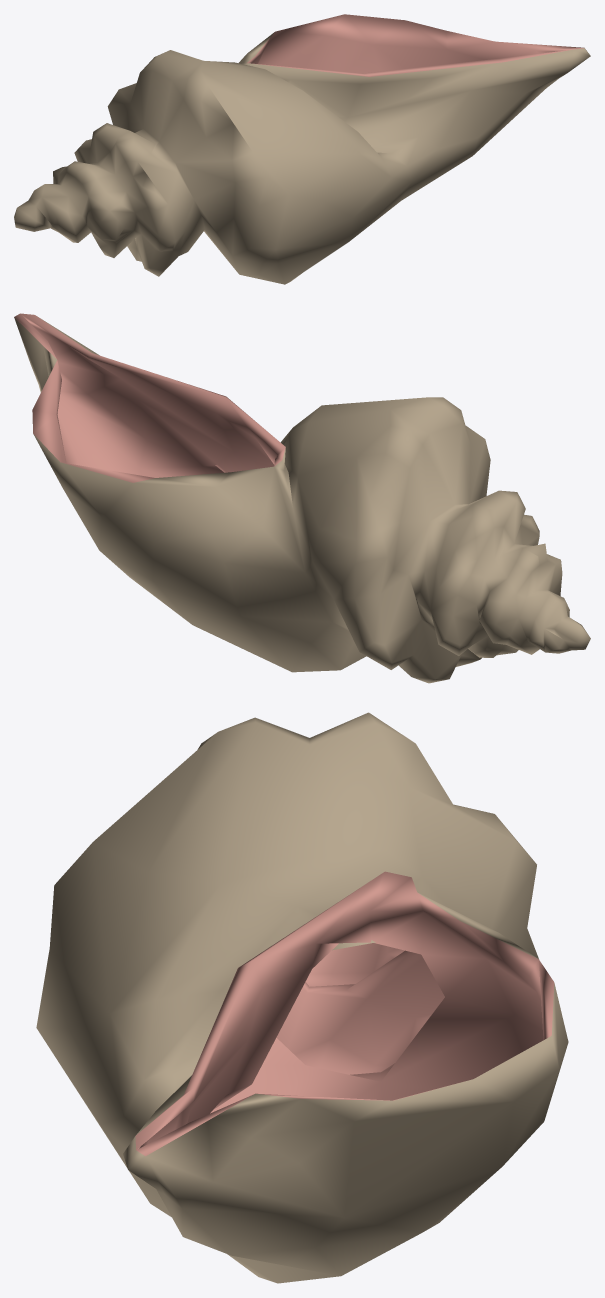
The model's file is shell-b.glb.
The picture shows the model from 3 angles, top to bottom: view 1: azimuth 30°, elevation 25°; view 2: azimuth 150°, elevation 25°; view 3: azimuth 270°, elevation 25°; orthographic projection. The views are drawn at different scales.
Visible parts, largest first — view 1: Shell.Thorned.001; view 2: Shell.Thorned.001; view 3: Shell.Thorned.001.
Boxes of the visible parts, box(x1,y1,x2,y2) form: Shell.Thorned.001: box(14, 14, 590, 284); Shell.Thorned.001: box(14, 313, 590, 683); Shell.Thorned.001: box(36, 712, 568, 1283).
Size of the model in its own units: 0.2964 by 0.128 by 0.1323.
